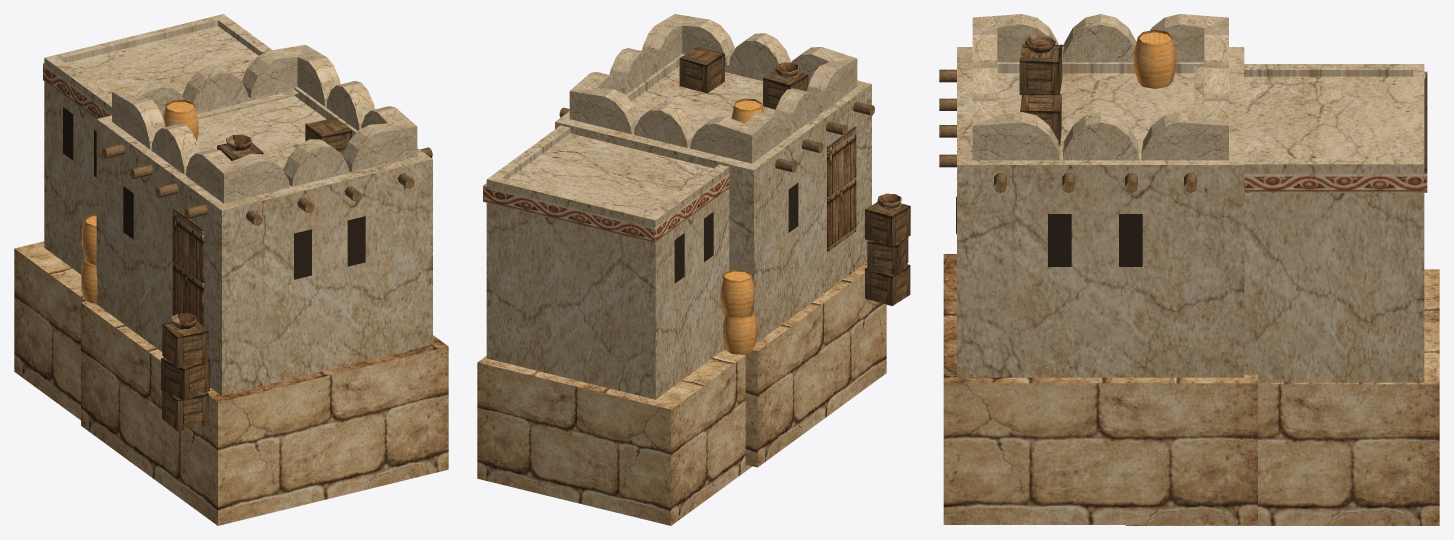
The model's file is house_01.dae.
The picture shows the model from 3 angles, left to right: view 1: azimuth 30°, elevation 25°; view 2: azimuth 150°, elevation 25°; view 3: azimuth 270°, elevation 25°; orthographic projection. The views are drawn at different scales.
Visible parts, largest first — view 1: house_01; view 2: house_01; view 3: house_01.
Part boxes in pixels (x1,y1,x2,y2): house_01: (14, 14, 448, 525); house_01: (477, 14, 910, 525); house_01: (939, 14, 1439, 525).
Bounding box in the file's own units: 13.53 × 18.81 × 16.6.
